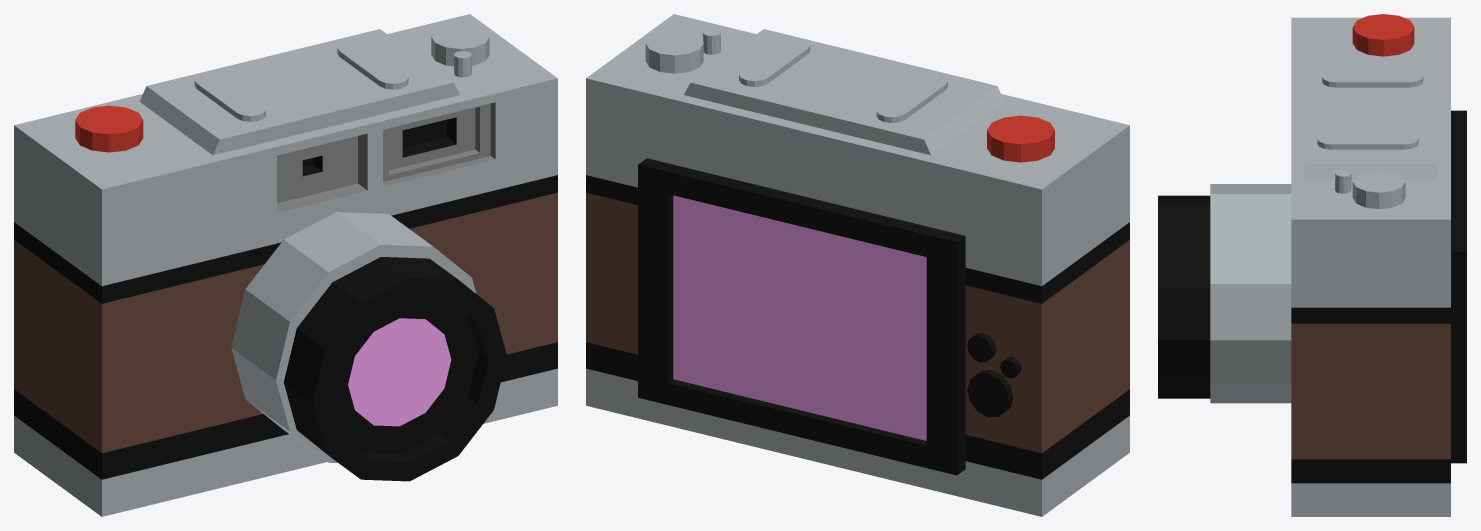
The model's file is camera.gltf.
3 renders of one model, left to right at view 1: azimuth 30°, elevation 25°; view 2: azimuth 150°, elevation 25°; view 3: azimuth 270°, elevation 25°, orthographic. The views are drawn at different scales.
Parts seen in each view (by area): view 1: node_MeshObject797359296-PolyPaper23, node_MeshObject1316079360-PolyGem25; view 2: node_MeshObject797359296-PolyPaper23, node_MeshObject1316079360-PolyGem25; view 3: node_MeshObject797359296-PolyPaper23.
Boxes of the visible parts, bbox=[...] form: node_MeshObject797359296-PolyPaper23: bbox=[14, 14, 557, 516]; node_MeshObject1316079360-PolyGem25: bbox=[348, 318, 451, 426]; node_MeshObject797359296-PolyPaper23: bbox=[586, 14, 1129, 516]; node_MeshObject1316079360-PolyGem25: bbox=[673, 195, 926, 440]; node_MeshObject797359296-PolyPaper23: bbox=[1158, 14, 1466, 516].
Bounding box in the file's own units: 0.5426 × 0.3948 × 0.3508.
